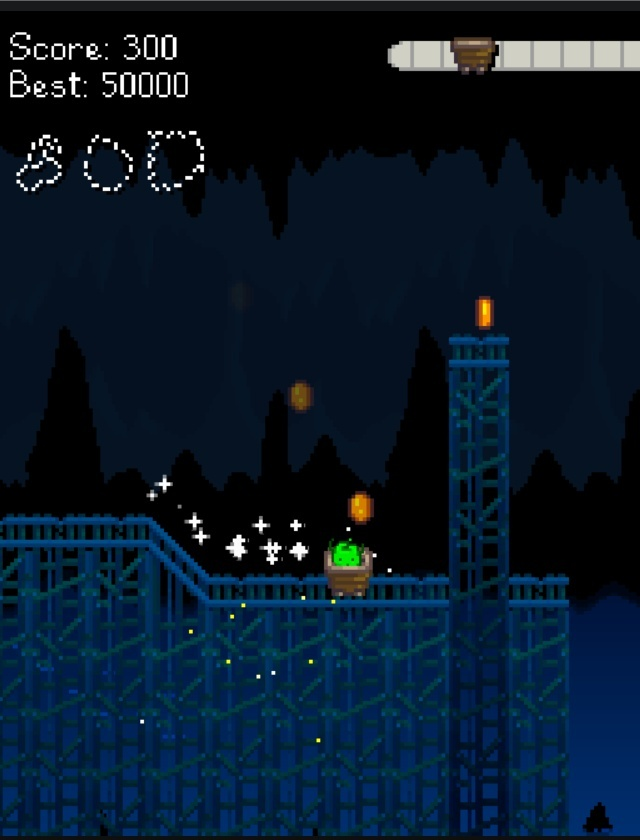coins: (287, 380, 313, 413), (349, 491, 373, 523), (476, 296, 493, 329)
minecart: (325, 550, 371, 595)
tracks: (0, 504, 452, 612), (427, 329, 523, 382)
